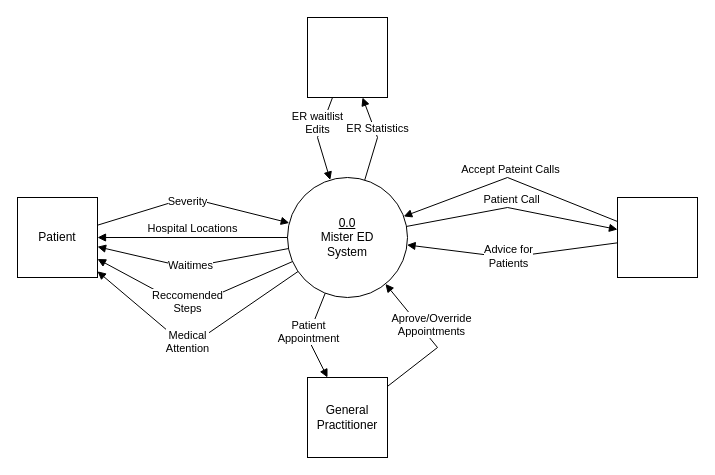
Image size: 715x475. Some labels were removed from this diagram. The box of each missing label's shape, as (x1, y1, x2, y2) in pixels:
Emergency Department Manager: (306, 16, 388, 98)
Hotline Nurse: (616, 196, 698, 278)
